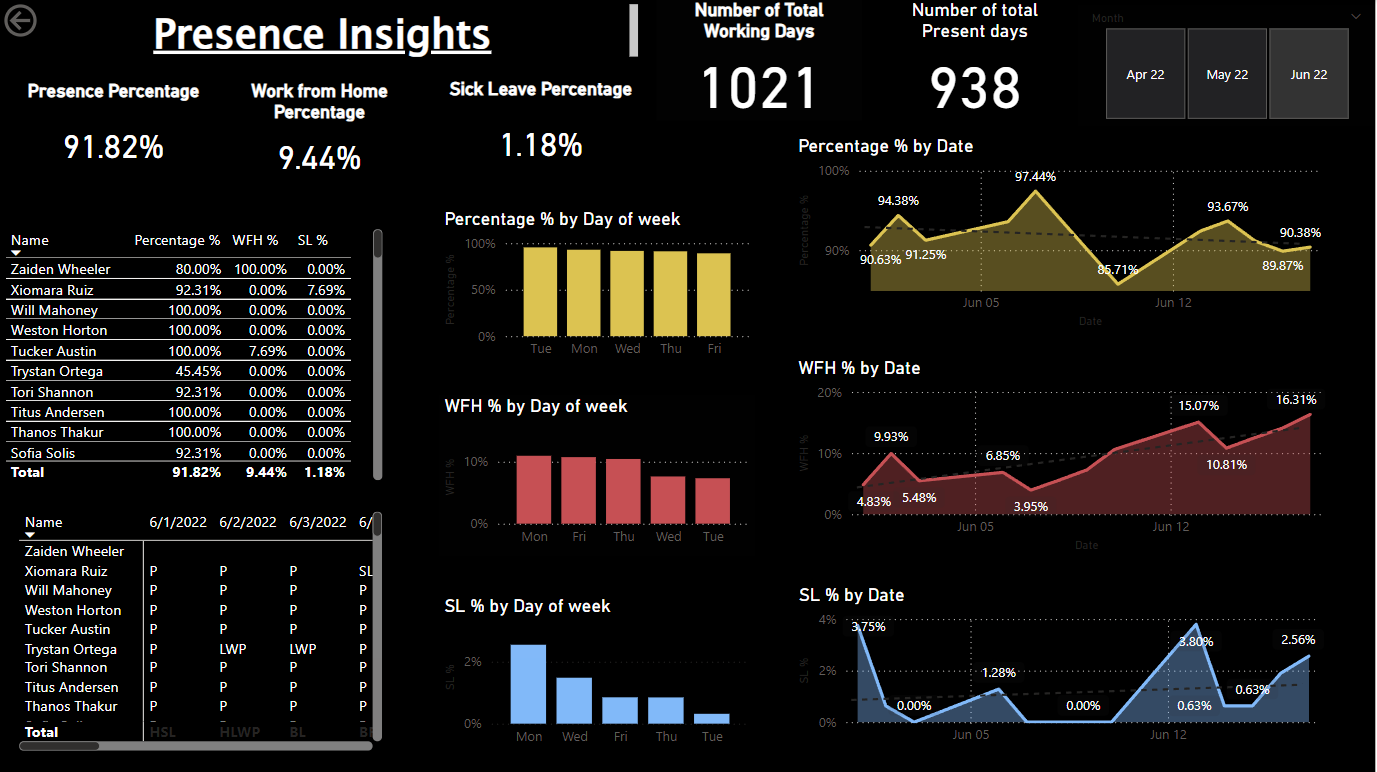

The page's visual inventory and layout, read from the dashboard file:
{"tool":"powerbi","page":{"name":"Page 1","canvas":[1280,720],"ordinal":0},"visuals":[{"type":"card","title":"Presence Percentage","fields":{"Values":["Measure Table.Percentage %"]},"box":[14.3,75.5,185.3,101.2],"z":0},{"type":"slicer","fields":{"Values":["Final Data.Month"]},"box":[1003.8,6.2,276.2,112.5],"z":1000},{"type":"card","title":"Work from Home Percentage","fields":{"Values":["Measure Table.WFH %"]},"box":[206.7,75.5,182.4,101.2],"z":2000},{"type":"card","title":"Sick Leave Percentage","fields":{"Values":["Measure Table.SL %"]},"box":[409.1,72.7,189.6,101.2],"z":3000},{"type":"actionButton","box":[0,0,100,40],"z":4000},{"type":"textbox","box":[10,0,588.7,62.7],"z":5000},{"type":"tableEx","fields":{"Values":["Final Data.Name","Measure Table.Percentage %","Measure Table.WFH %","Measure Table.SL %"]},"box":[0,209.5,362,243.7],"z":6000},{"type":"pivotTable","fields":{"Rows":["Final Data.Name"],"Values":["Min(Final Data.Value)"],"Columns":["Final Data.Date"]},"box":[14.3,471.8,347.8,232.3],"z":7000},{"type":"areaChart","fields":{"Y":["Measure Table.Percentage %"],"Category":["Final Data.Date"]},"box":[738.4,126.9,504.6,183.9],"z":8000},{"type":"areaChart","fields":{"Y":["Measure Table.WFH %"],"Category":["Final Data.Date"]},"box":[738.4,332.1,504.6,186.7],"z":9000},{"type":"areaChart","fields":{"Y":["Measure Table.SL %"],"Category":["Final Data.Date"]},"box":[738.4,543.1,504.6,161.1],"z":10000},{"type":"columnChart","fields":{"Category":["Final Data.Day of week"],"Y":["Measure Table.Percentage %"]},"box":[409.1,193.9,293.6,149.7],"z":11000},{"type":"columnChart","fields":{"Category":["Final Data.Day of week"],"Y":["Measure Table.WFH %"]},"box":[409.1,369.2,293.6,149.7],"z":12000},{"type":"columnChart","fields":{"Category":["Final Data.Day of week"],"Y":["Measure Table.SL %"]},"box":[409.1,554.5,293.6,149.7],"z":13000},{"type":"card","title":"Number of total Present days","fields":{"Values":["Measure Table.Present Days"]},"box":[823.9,0,166.8,112.6],"z":14000},{"type":"card","title":"Number of Total Working Days","fields":{"Values":["Measure Table.Total Working Days"]},"box":[611.5,0,191,112.6],"z":15000}]}

Visuals, with their boxes in screenshot pixels (x1, y1, x2, y2), scaled from the page's 1280x720 canvas onto the 1377x772 screenshot:
"Presence Percentage" card: bbox(15, 81, 215, 189)
slicer - Final Data.Month: bbox(1080, 7, 1376, 127)
"Work from Home Percentage" card: bbox(222, 81, 419, 189)
"Sick Leave Percentage" card: bbox(440, 78, 644, 186)
actionButton: bbox(0, 0, 108, 43)
textbox: bbox(11, 0, 644, 67)
tableEx - Final Data.Name x Measure Table.Percentage %: bbox(0, 225, 389, 486)
pivotTable - Final Data.Name x Min(Final Data.Value): bbox(15, 506, 390, 755)
areaChart - Measure Table.Percentage % x Final Data.Date: bbox(794, 136, 1337, 333)
areaChart - Measure Table.WFH % x Final Data.Date: bbox(794, 356, 1337, 556)
areaChart - Measure Table.SL % x Final Data.Date: bbox(794, 582, 1337, 755)
columnChart - Final Data.Day of week x Measure Table.Percentage %: bbox(440, 208, 756, 368)
columnChart - Final Data.Day of week x Measure Table.WFH %: bbox(440, 396, 756, 556)
columnChart - Final Data.Day of week x Measure Table.SL %: bbox(440, 595, 756, 755)
"Number of total Present days" card: bbox(886, 0, 1066, 121)
"Number of Total Working Days" card: bbox(658, 0, 863, 121)
